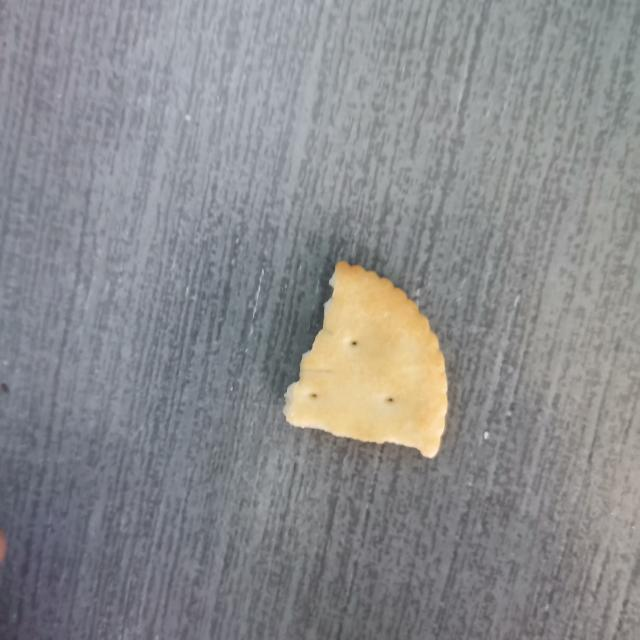Broken: (281, 260, 448, 459)
